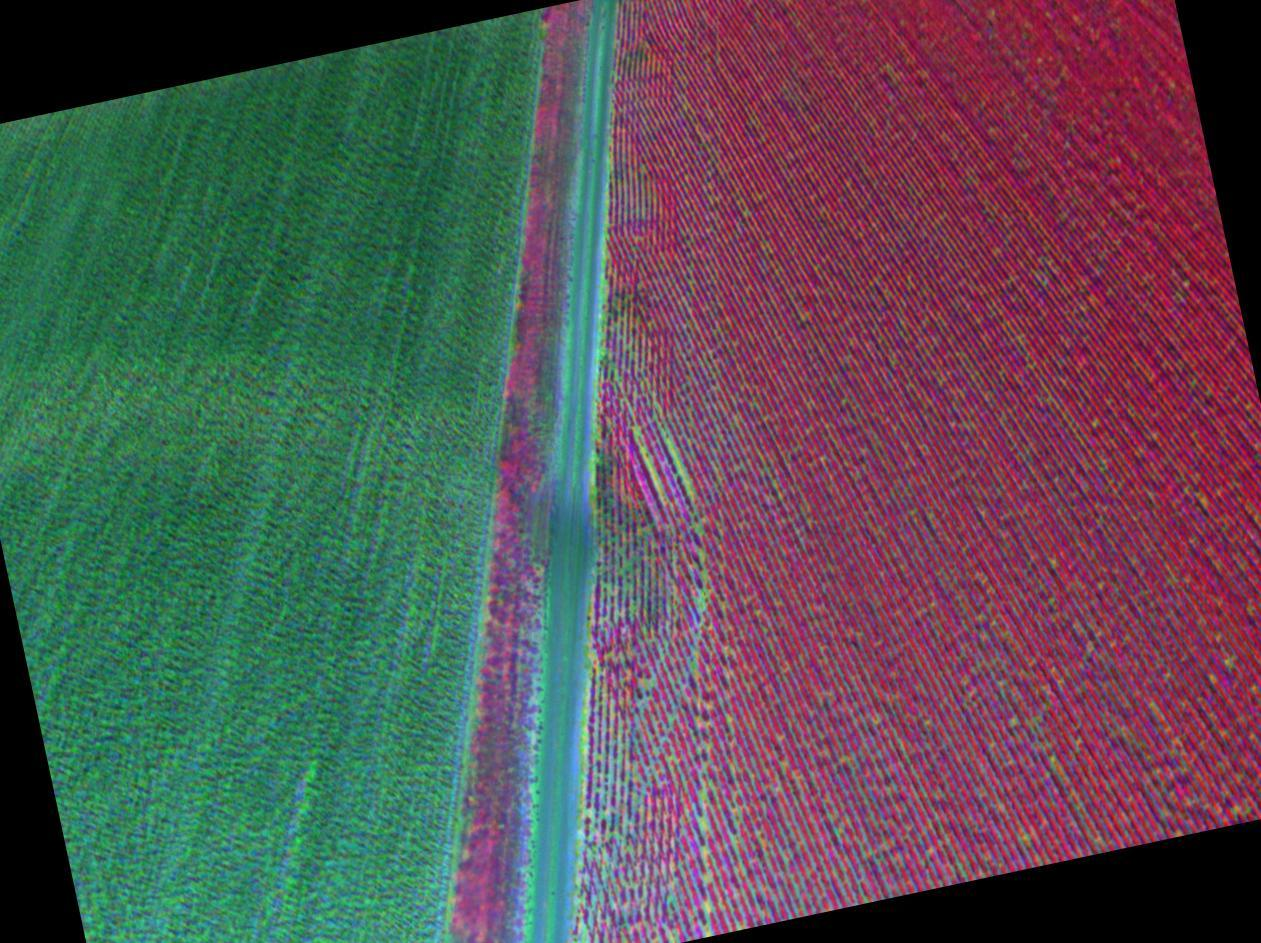dc: (679, 467, 684, 472), (654, 475, 658, 481), (668, 441, 672, 446), (646, 682, 649, 686), (698, 819, 701, 823), (708, 875, 711, 879), (700, 596, 703, 599), (1010, 722, 1013, 725), (596, 755, 599, 758)
